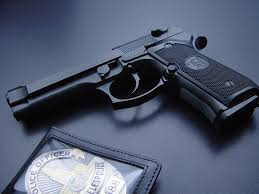gun: (7, 23, 259, 136)
